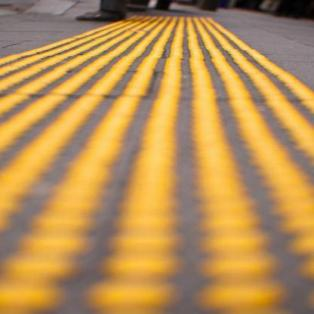Podoctatil: (1, 18, 308, 310)
